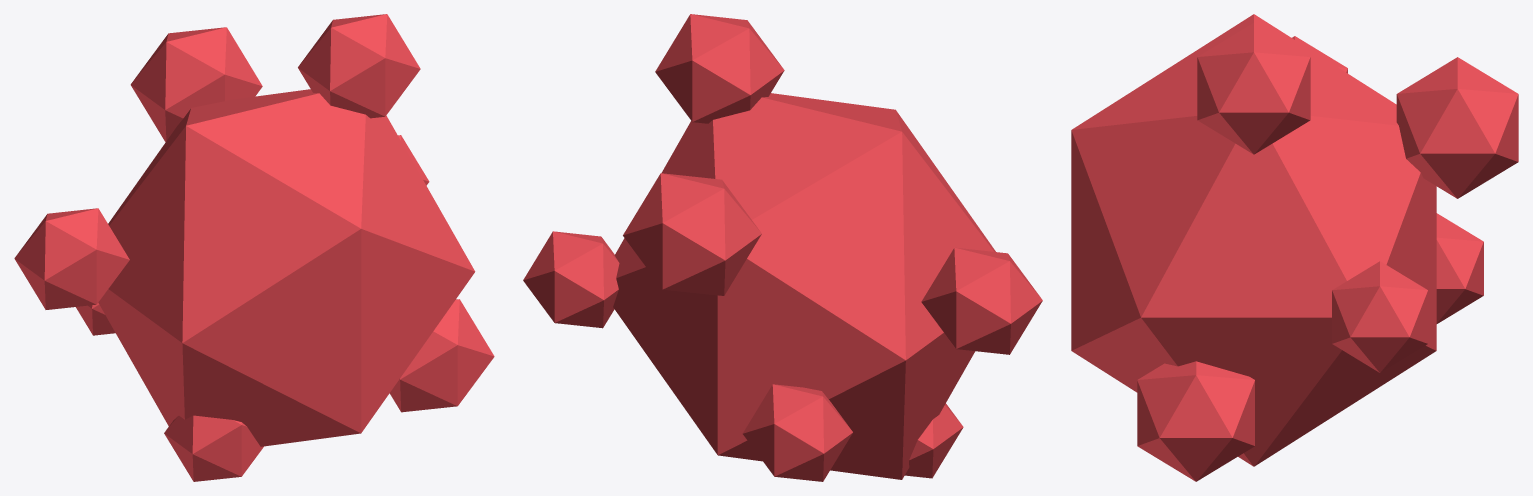
File: bolita-coral.glb
3 views of the same model, side by side, from view 1: azimuth 30°, elevation 25°; view 2: azimuth 150°, elevation 25°; view 3: azimuth 270°, elevation 25° (orthographic). The views are drawn at different scales.
Visible parts, largest first — view 1: bolita-gemelo; view 2: bolita-gemelo; view 3: bolita-gemelo.
Part boxes in pixels (x1,y1,x2,y2): bolita-gemelo: (14,14,494,481); bolita-gemelo: (523,14,1042,481); bolita-gemelo: (1071,14,1518,481).
Size of the model in its own units: 0.3709 by 0.3355 by 0.3125.
